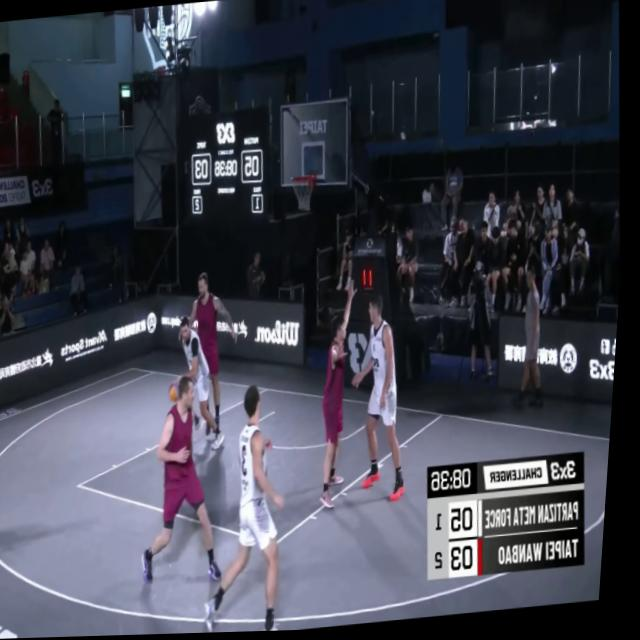ball: (170, 381, 188, 408)
hoop: (291, 169, 321, 219)
player: (200, 382, 305, 635), (134, 375, 241, 594), (343, 294, 424, 505), (311, 284, 370, 510), (182, 261, 254, 440), (175, 309, 240, 451)
